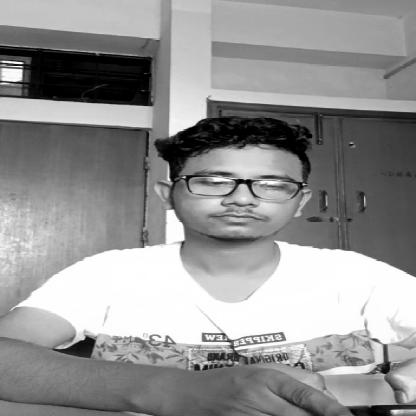Normal: (140, 110, 316, 232)
